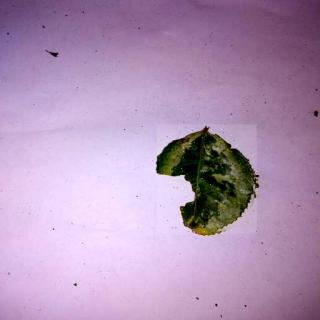Anthracnose: (158, 125, 259, 235)
